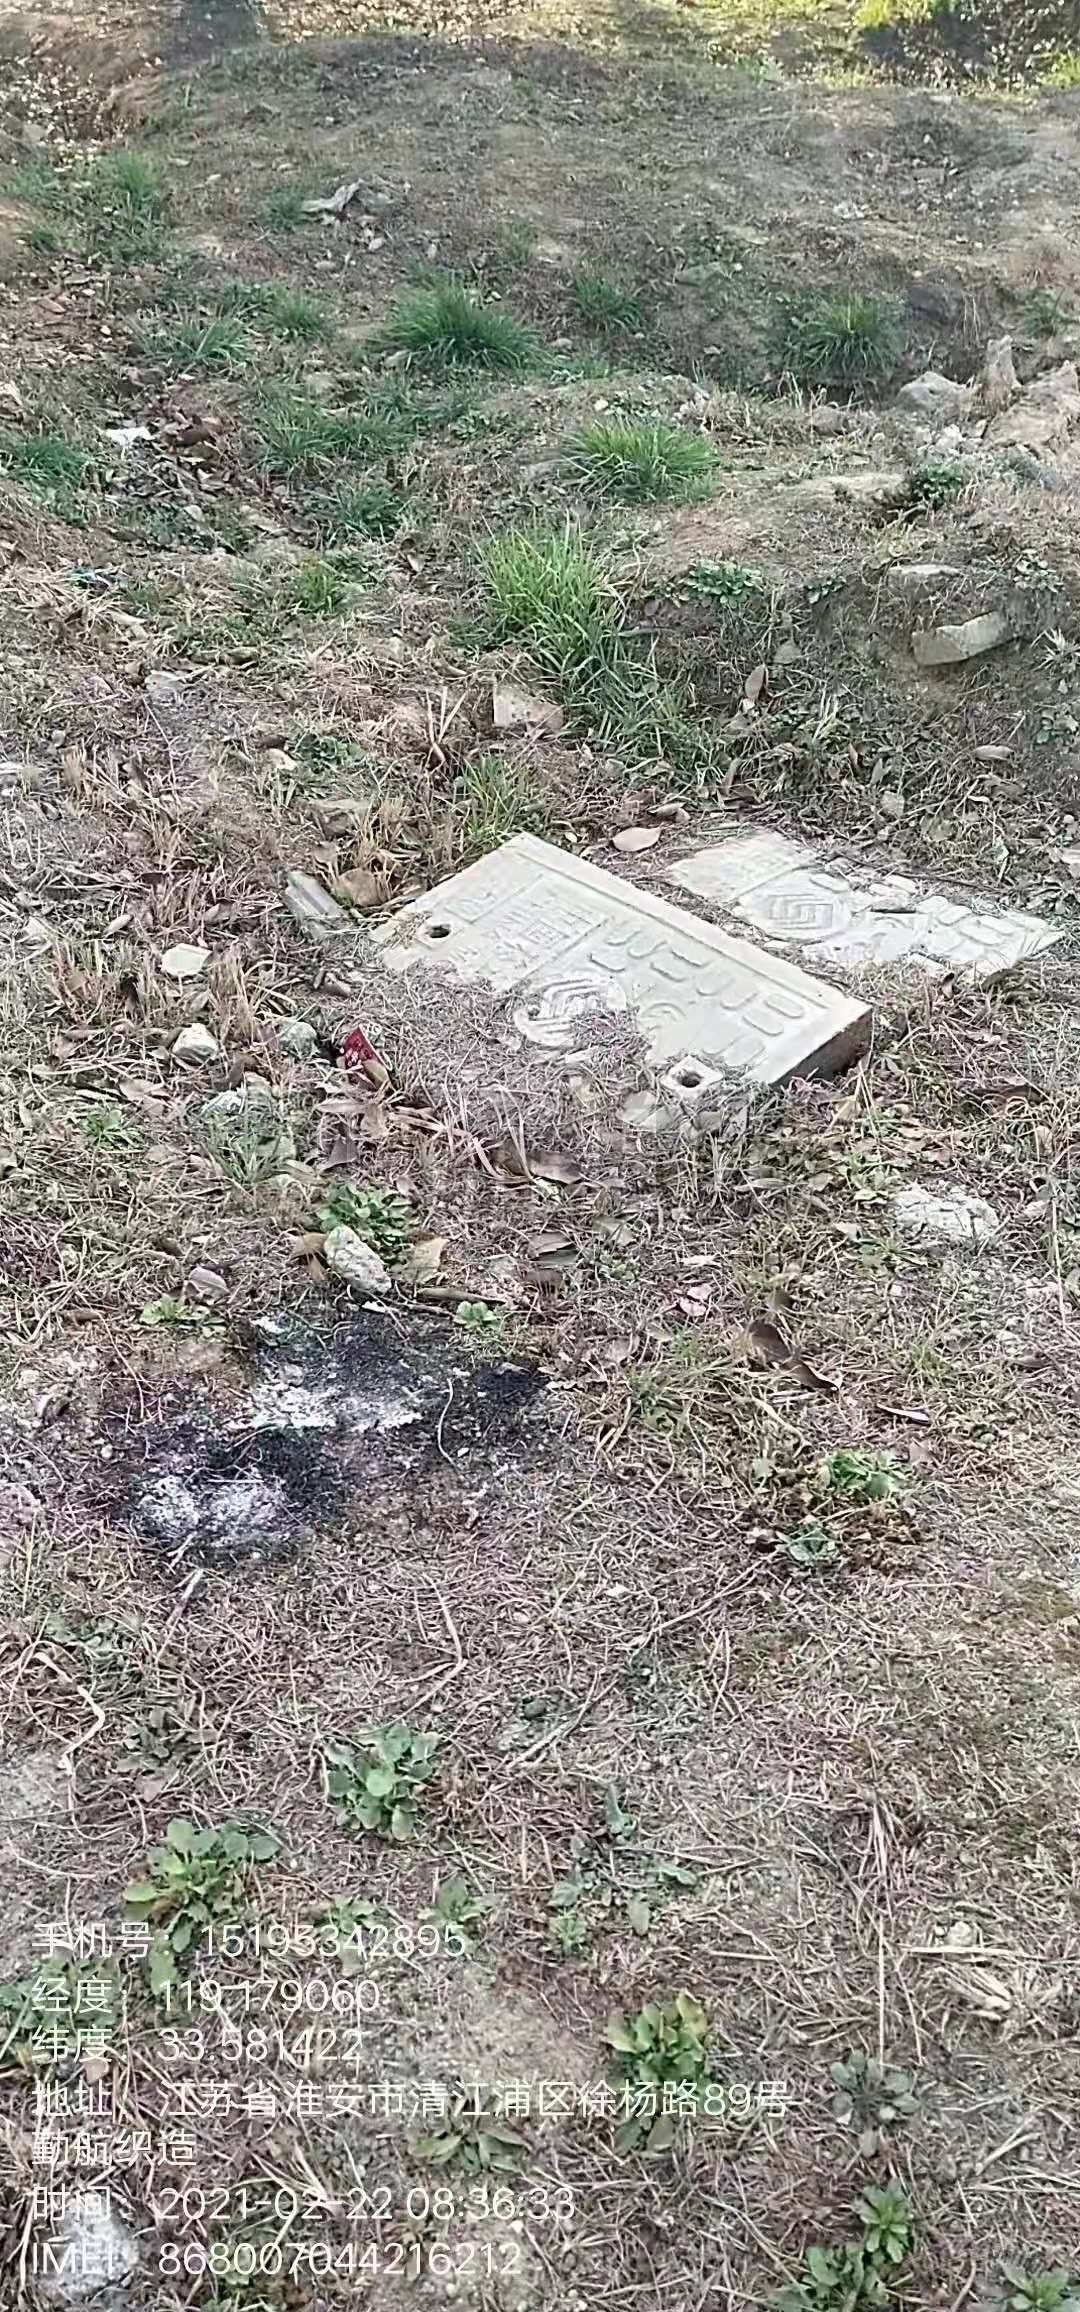uncovered: (230, 792, 955, 1197)
